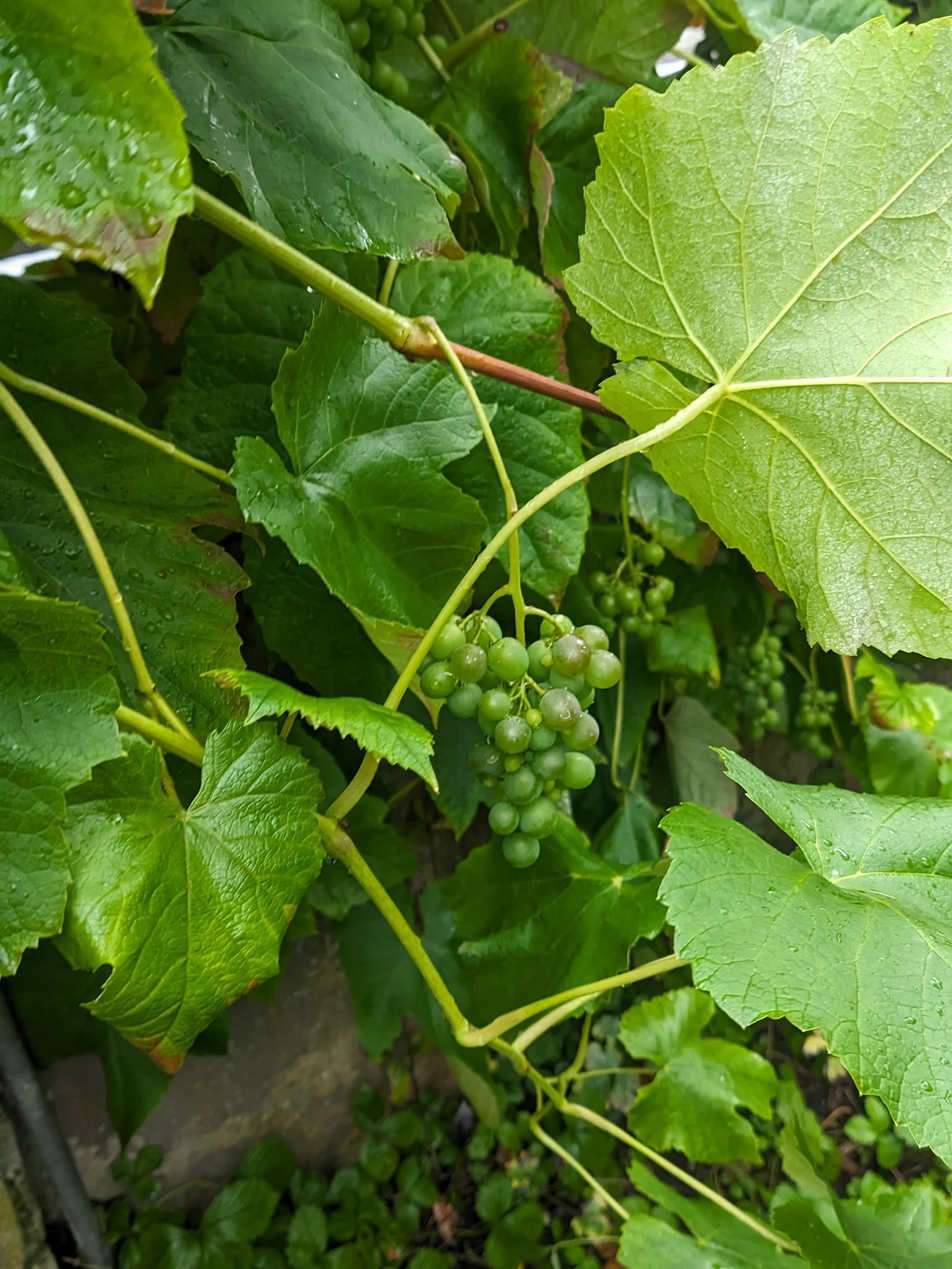Grape Unripe: (415, 609, 621, 870), (327, 0, 425, 106), (588, 538, 676, 639), (733, 630, 786, 736), (795, 689, 838, 758)
